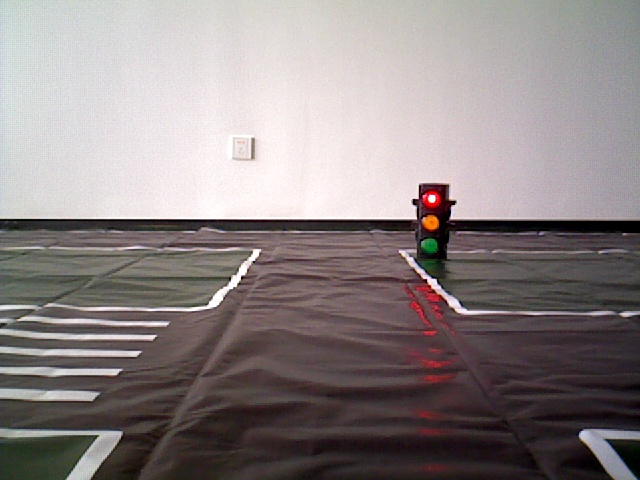red: (414, 187, 444, 261)
